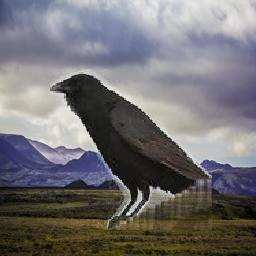Crow: (50, 70, 212, 231)
